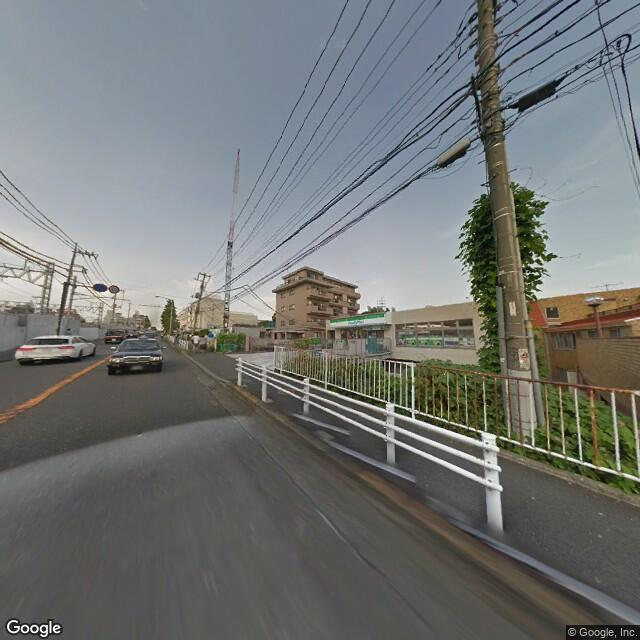family_mart: (329, 308, 389, 331)
